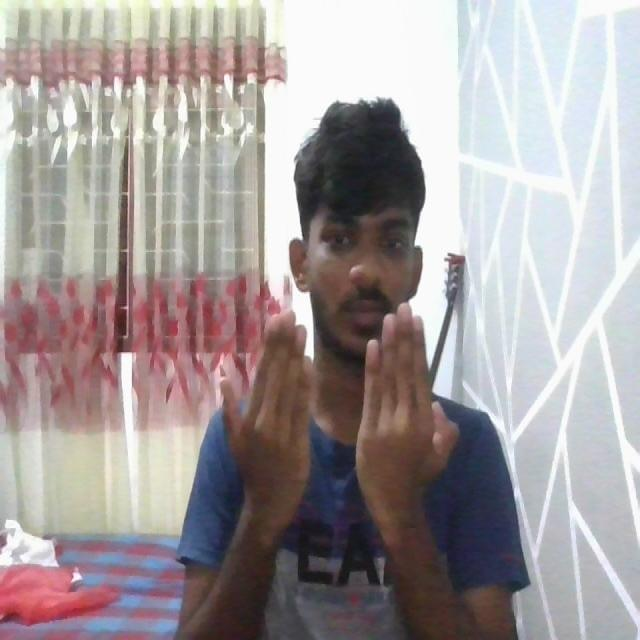ThankYou: (171, 307, 524, 635)
